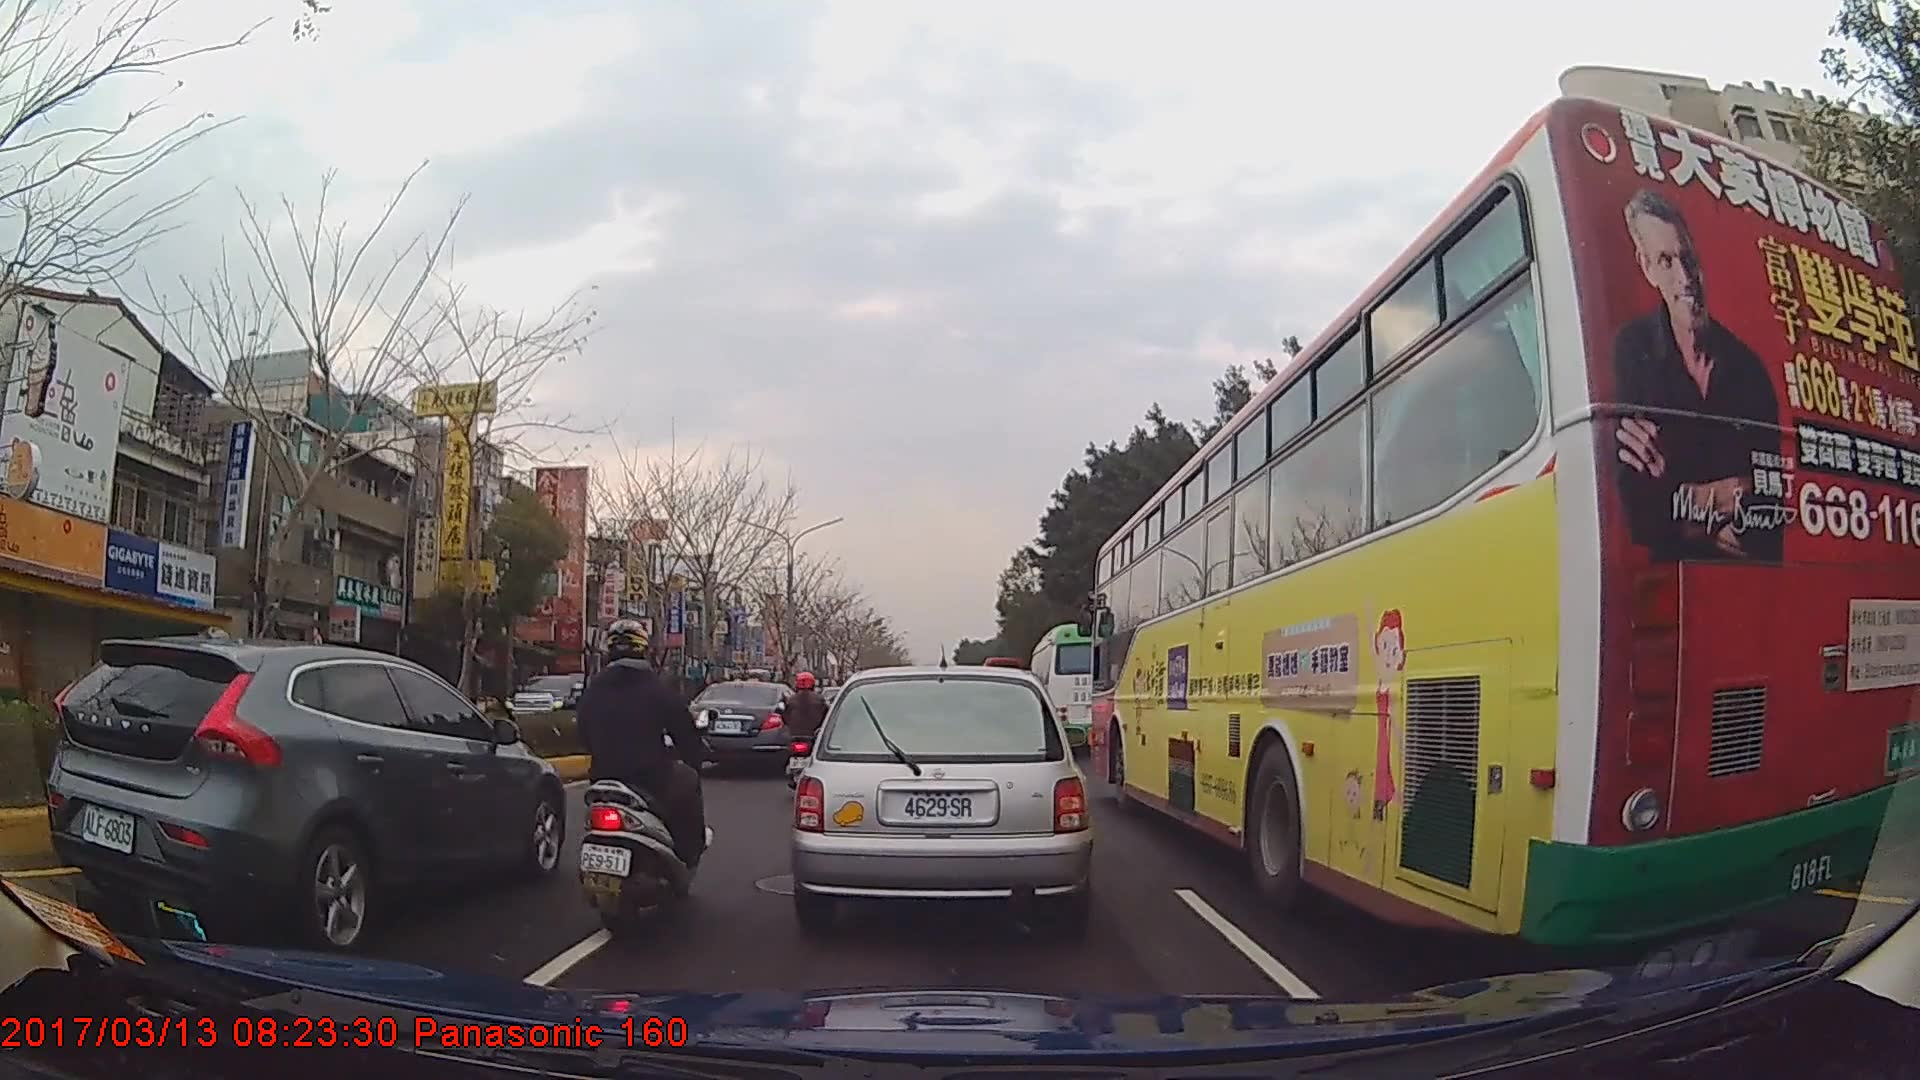rider: (571, 617, 706, 932), (778, 671, 835, 790)
vehicle: (1088, 93, 1920, 953), (47, 635, 566, 954), (790, 659, 1096, 935), (1029, 620, 1133, 755), (684, 678, 808, 774), (502, 669, 611, 729)
